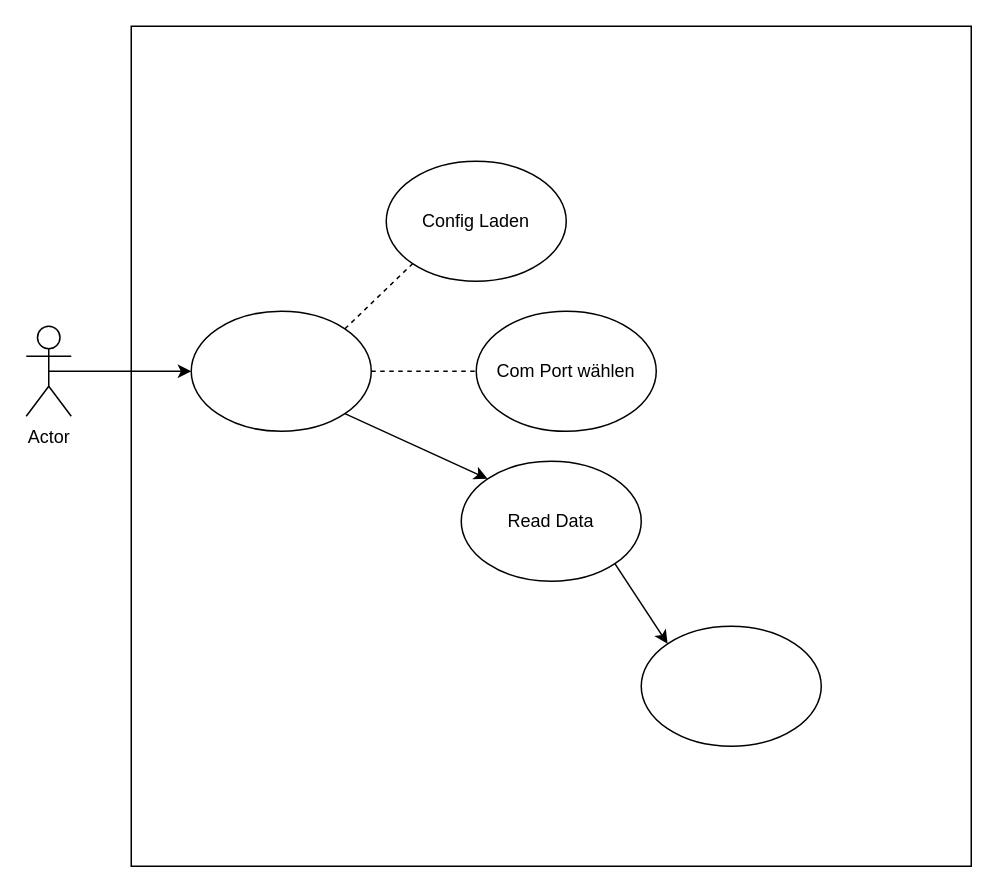
This 998x893 diagram has some shape labels left out. The shapes that lost their labels are listed below. From the top down, each one's box as (x1, y1, x2, y2) in pixels, then its label:
(190, 310, 371, 431): Programm Starten
(640, 625, 821, 746): Daten Anzeigen
